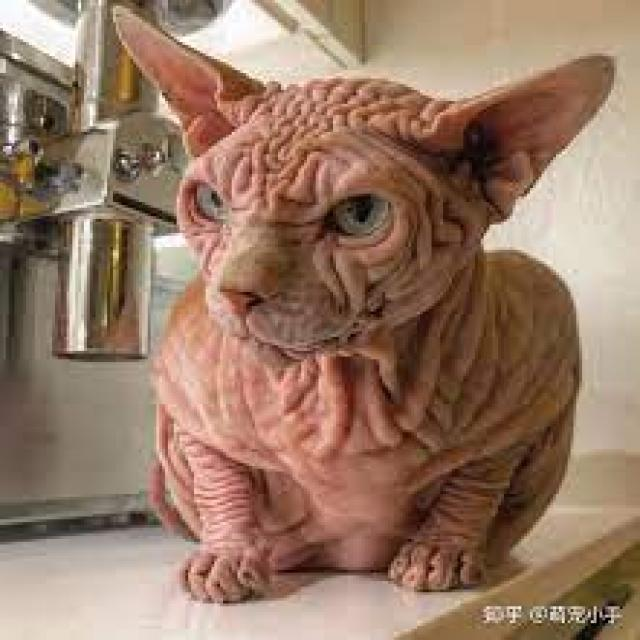cat: (46, 8, 626, 614)
